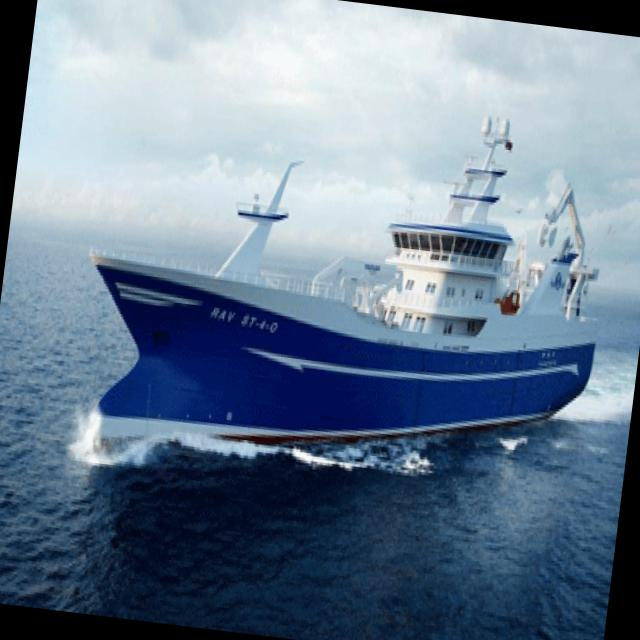boat: (53, 26, 640, 552)
